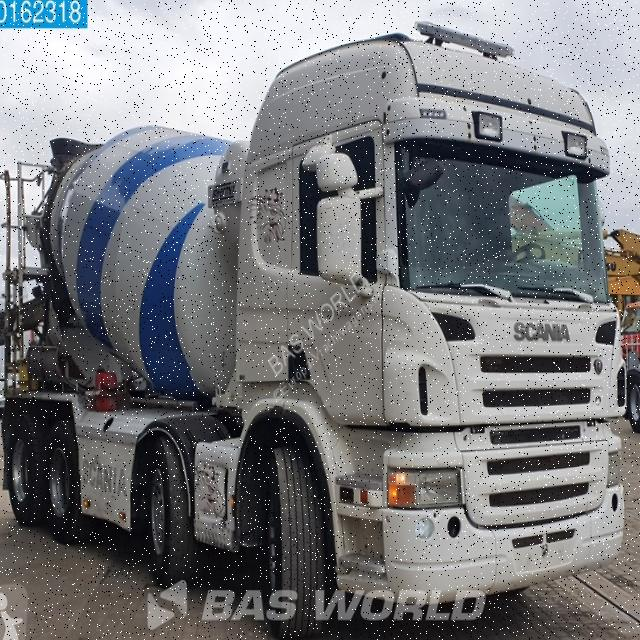Mixer Truck: (0, 33, 626, 638)
